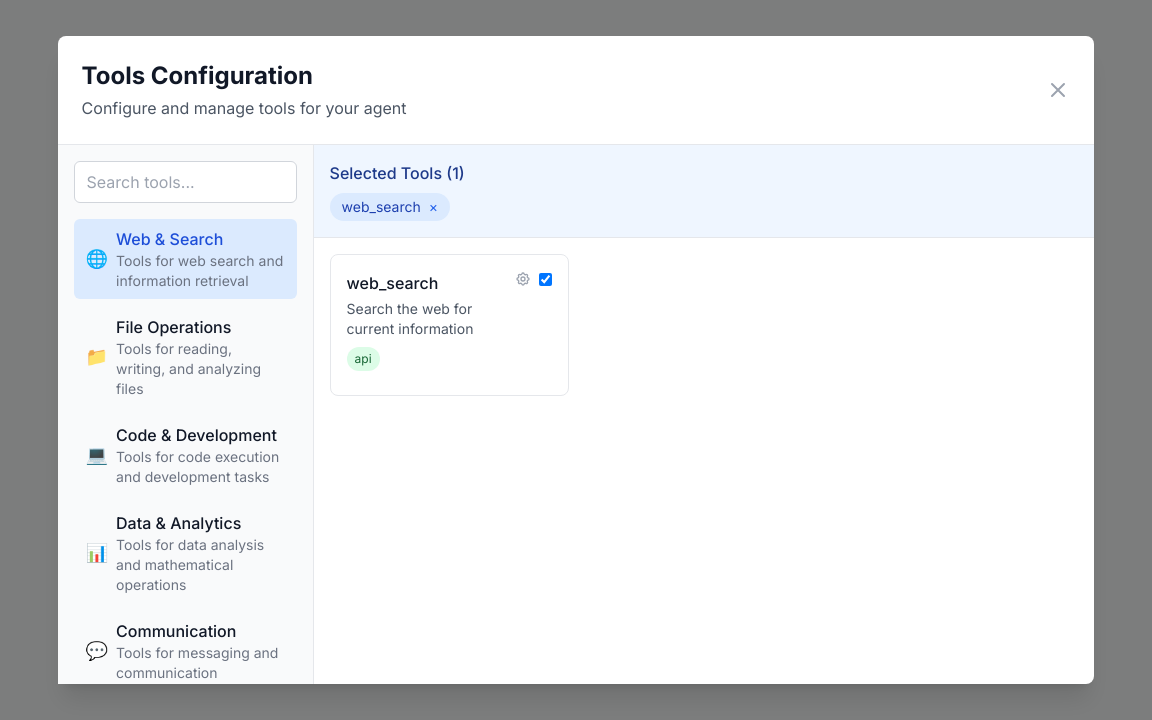
ToolsConfigurationPanel › Category Filtering › should combine category and search filtering
Switch to data category
Click the button with test id "category-data".
click(185, 553)  # box [74,503,297,603]
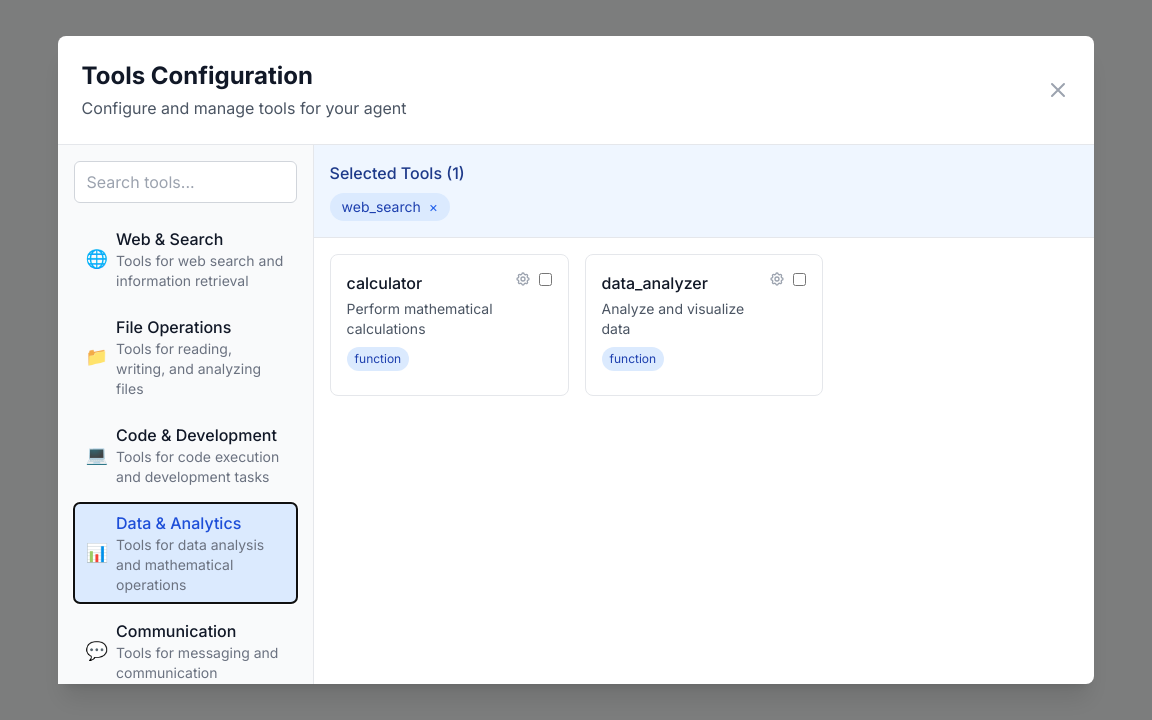
Search for calculator
Type "calculator" into the field with test id "tools-search".
click(185, 182); type("calculator")  # box [74,161,297,203]
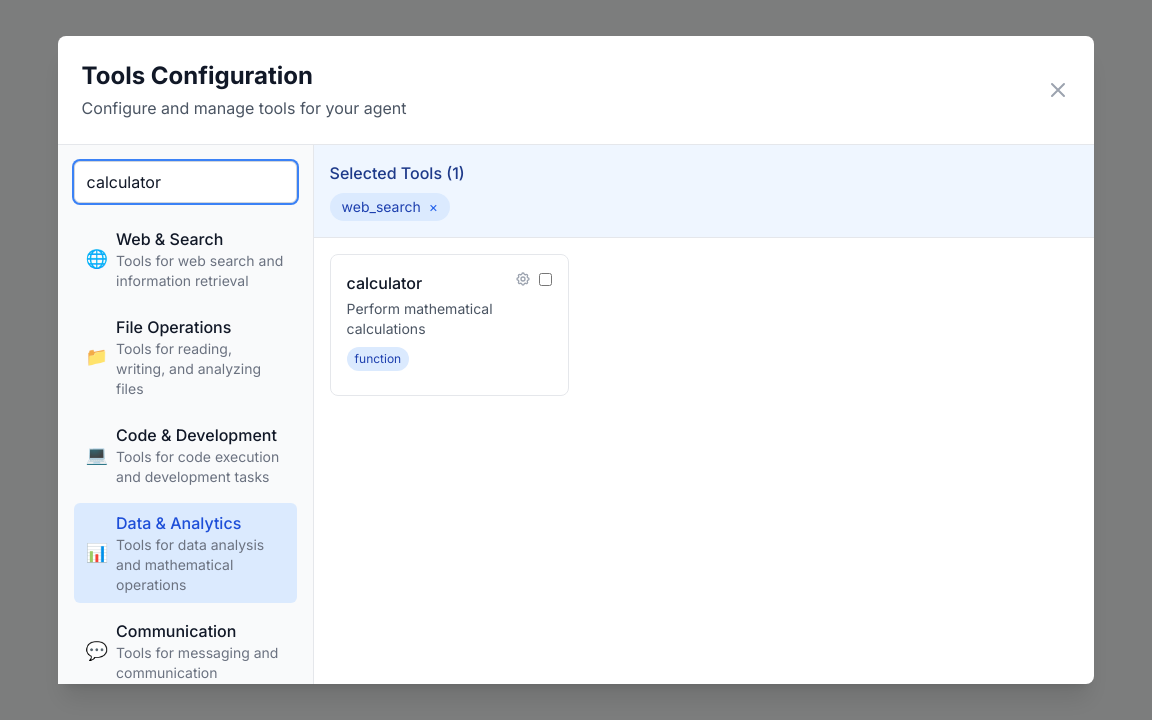
Expected: the heading "calculator" is shown, [347,273,422,293]
Expected: the heading "data_analyzer" is gone
